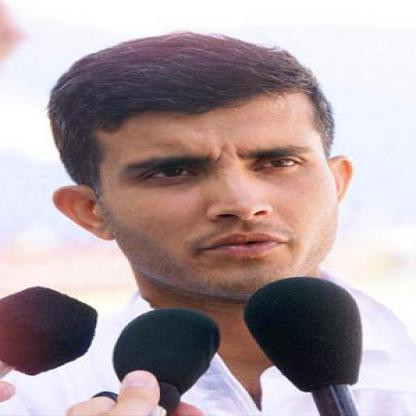face: (89, 41, 349, 303)
